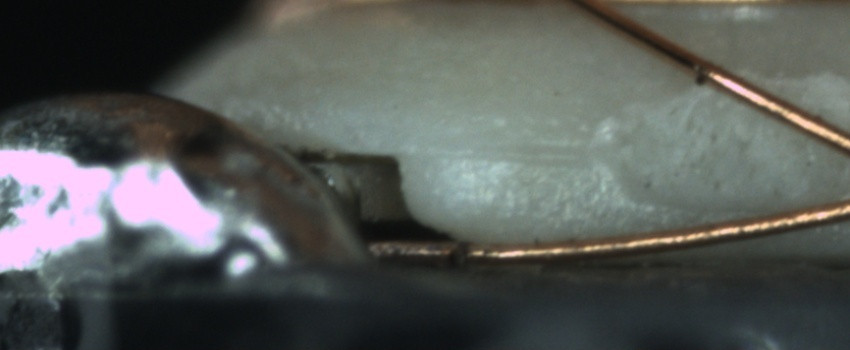DL: (392, 120, 624, 184)
